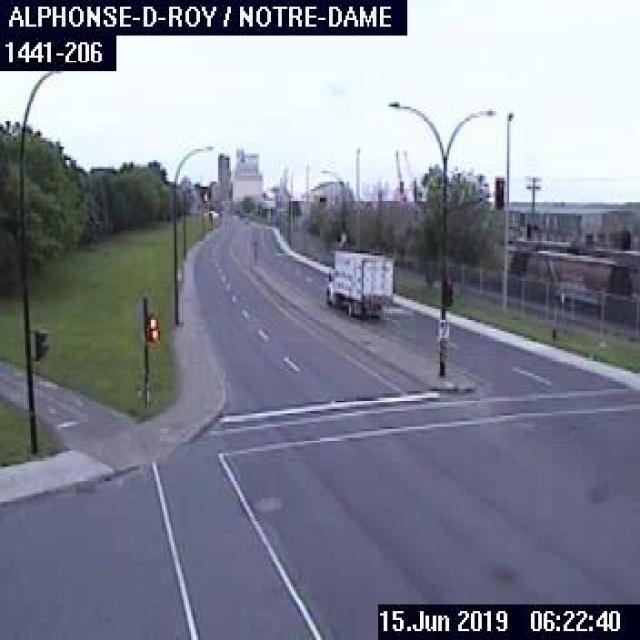vehicle: (323, 247, 392, 316)
